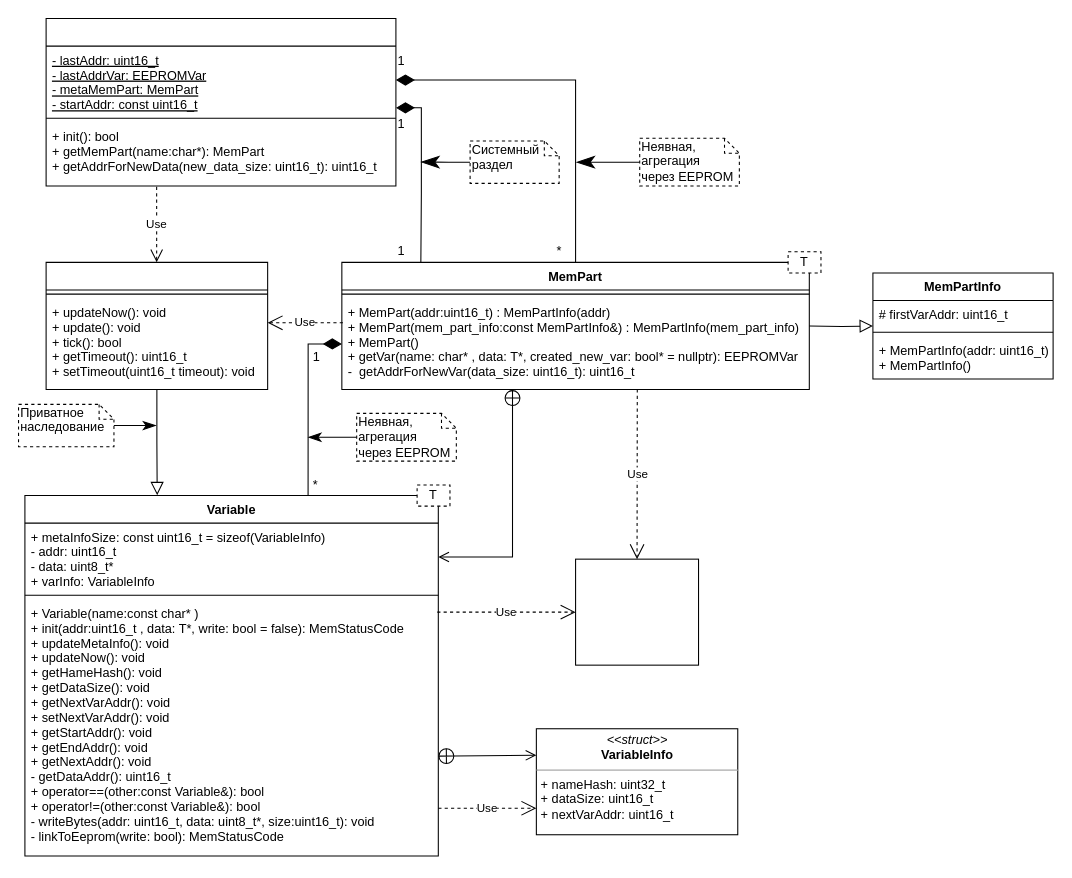
Some shapes in this 1072 by 878 pixel diagram are drawn without their labels. The shapes that lost their labels are listed below. From the top down, each one's box as (x1, y1, x2, y2) in pixels, then its label:
(45, 17, 396, 186): EEMemManager
(45, 261, 268, 390): EEPROMVar
(575, 558, 699, 665): << enumeration >> MemStatusCode ok created failed
